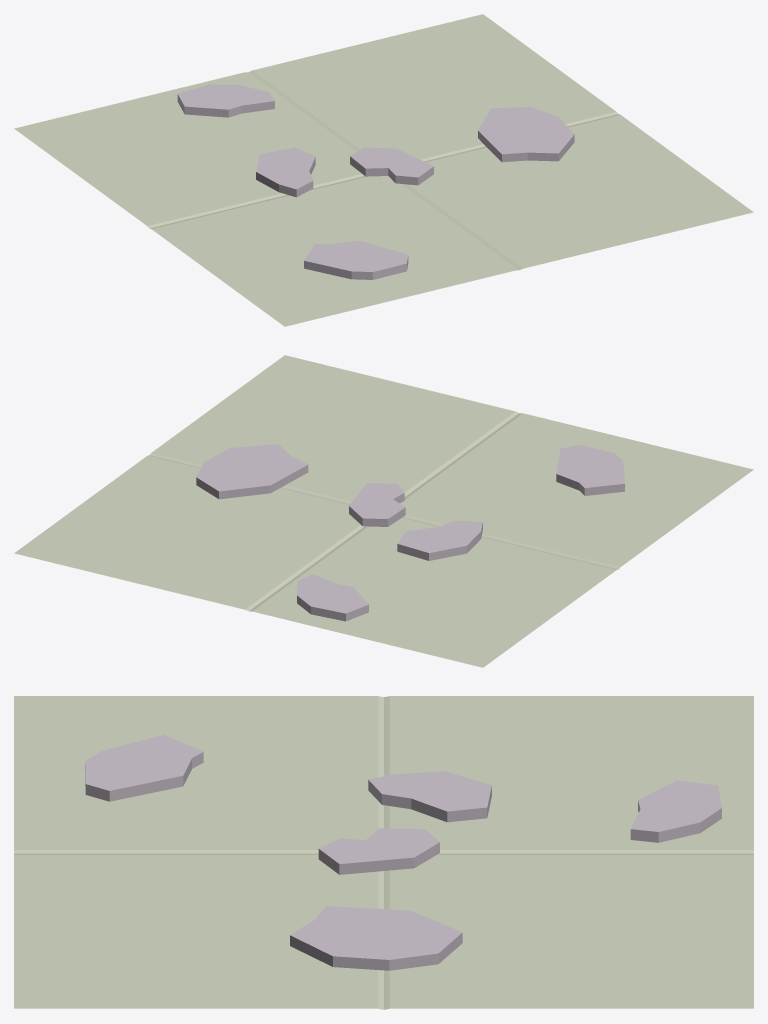
File: SM_SM_Floor_01.003.fbx
3 renders of one model, top to bottom at view 1: azimuth 30°, elevation 25°; view 2: azimuth 150°, elevation 25°; view 3: azimuth 270°, elevation 25°, orthographic. The views are drawn at different scales.
Parts seen in each view (by area): view 1: SM_Floor_01.003; view 2: SM_Floor_01.003; view 3: SM_Floor_01.003.
Part boxes in pixels (x1,y1,x2,y2): SM_Floor_01.003: [14, 14, 753, 326]; SM_Floor_01.003: [14, 355, 753, 667]; SM_Floor_01.003: [14, 696, 753, 1009].
Bounding box in the file's own units: 400 × 7.11 × 400.
